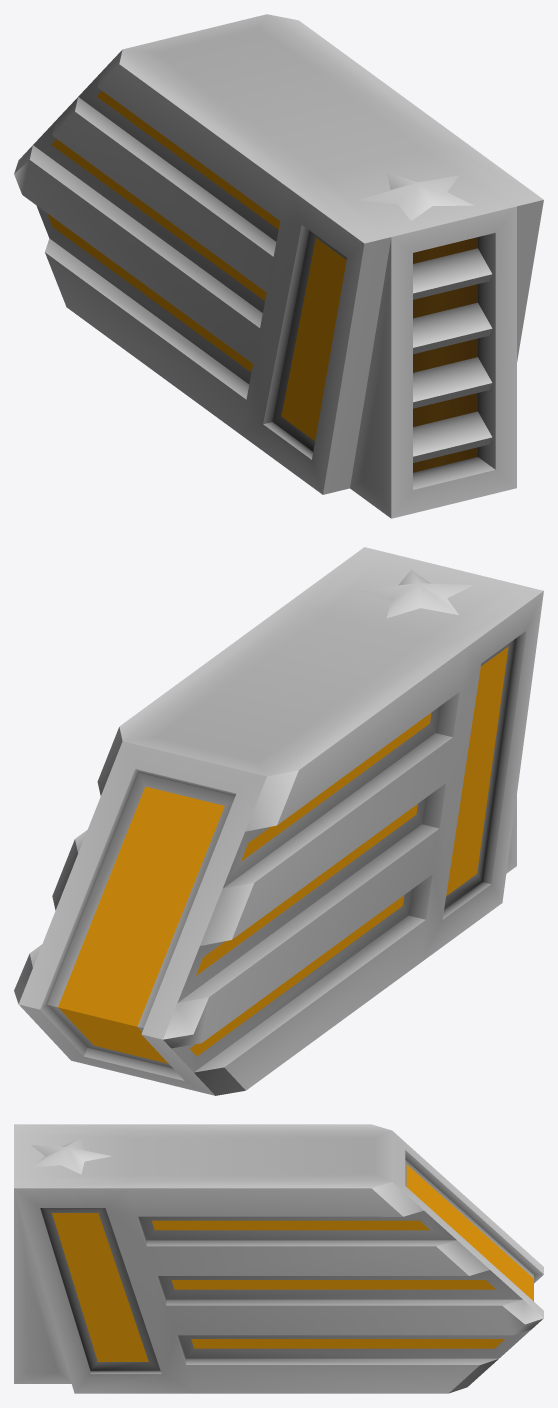
The model's file is obj_dekotora_arrowlightlarge.fbx.
3 views of the same model, one above another, from view 1: azimuth 30°, elevation 25°; view 2: azimuth 150°, elevation 25°; view 3: azimuth 270°, elevation 25° (orthographic). The views are drawn at different scales.
Parts seen in each view (by area): view 1: Cube.002, Cube.001; view 2: Cube.002, Cube.001; view 3: Cube.002, Cube.001.
Part boxes in pixels (left/top/right/bottom): Cube.002: left=14, top=14, right=543, bottom=518; Cube.001: left=47, top=91, right=477, bottom=472; Cube.002: left=14, top=547, right=543, bottom=1095; Cube.001: left=58, top=646, right=508, bottom=1063; Cube.002: left=14, top=1124, right=543, bottom=1393; Cube.001: left=52, top=1164, right=533, bottom=1361.
Size of the model in its own units: 2 by 3.13 by 7.01.
